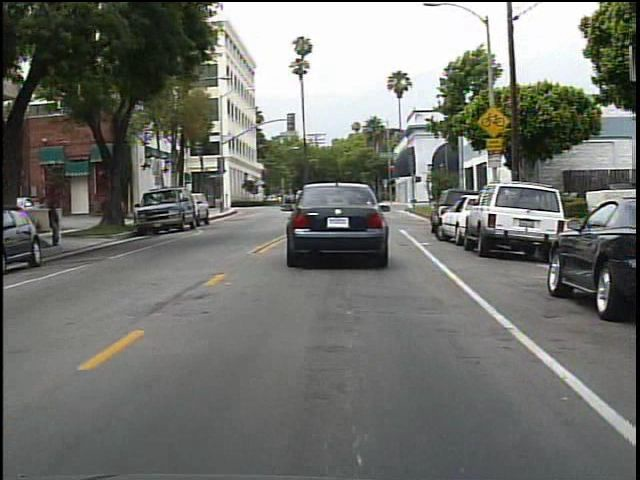person: (50, 197, 67, 249)
